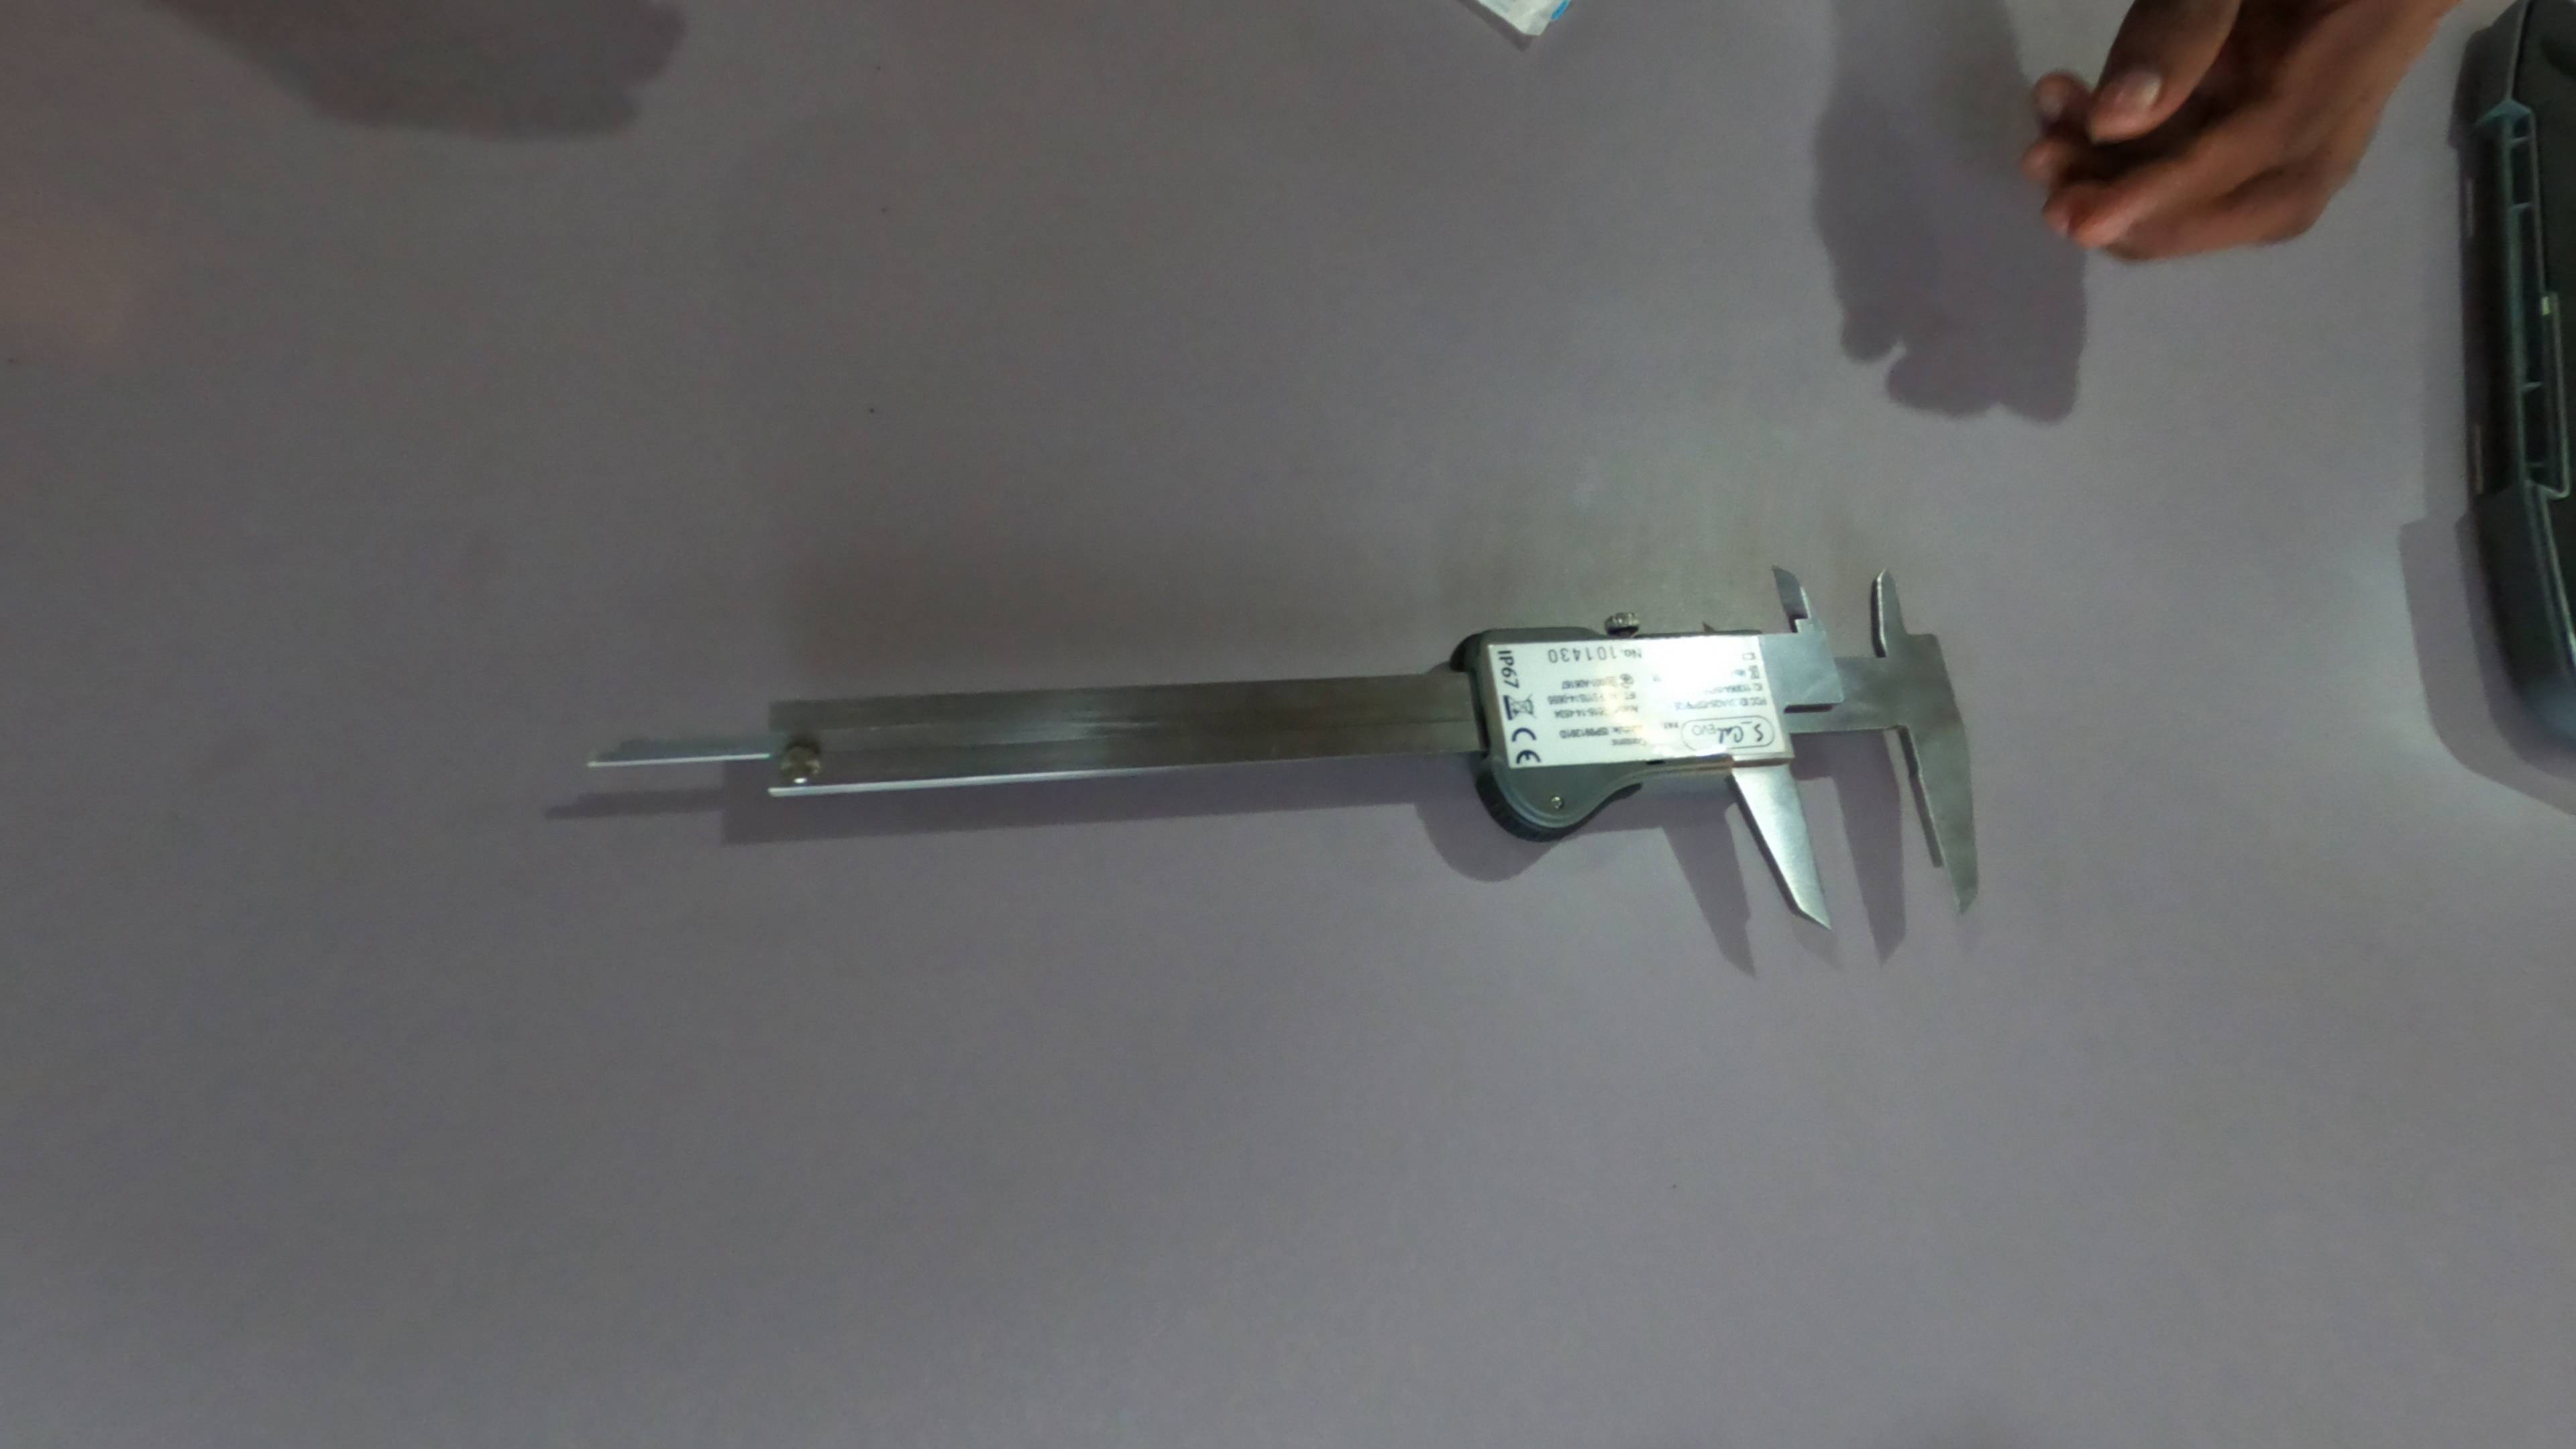vernier_caliper: (589, 563, 1978, 920)
